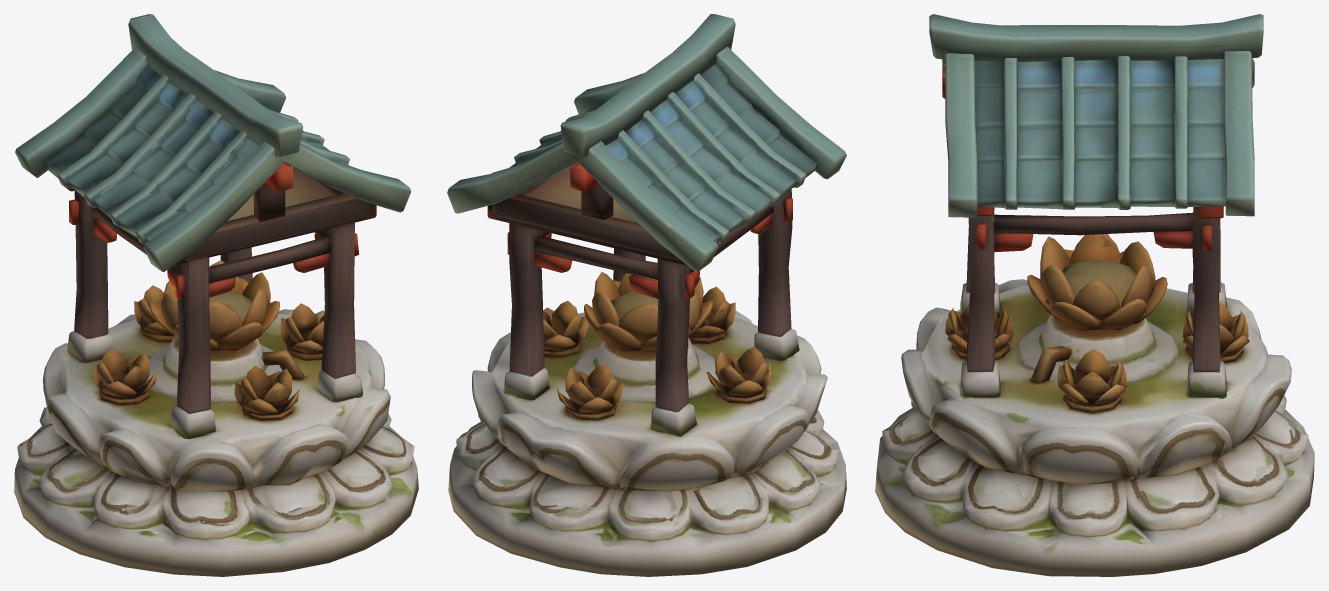
Rendered from tripo_convert_5b3b767a-6b04-4dea-9dc0-dbd3ae92e742.fbx.
3 views of the same model, side by side, from view 1: azimuth 30°, elevation 25°; view 2: azimuth 150°, elevation 25°; view 3: azimuth 270°, elevation 25° (orthographic). The views are drawn at different scales.
Visible parts, largest first — view 1: tripo_node_5b3b767a; view 2: tripo_node_5b3b767a; view 3: tripo_node_5b3b767a.
Part boxes in pixels (bbox=[...]): tripo_node_5b3b767a: bbox=[14, 14, 418, 576]; tripo_node_5b3b767a: bbox=[447, 14, 846, 576]; tripo_node_5b3b767a: bbox=[875, 14, 1314, 576].
Bounding box in the file's own units: 0.8613 × 0.998 × 0.8574.
1 material, 1 textured.
